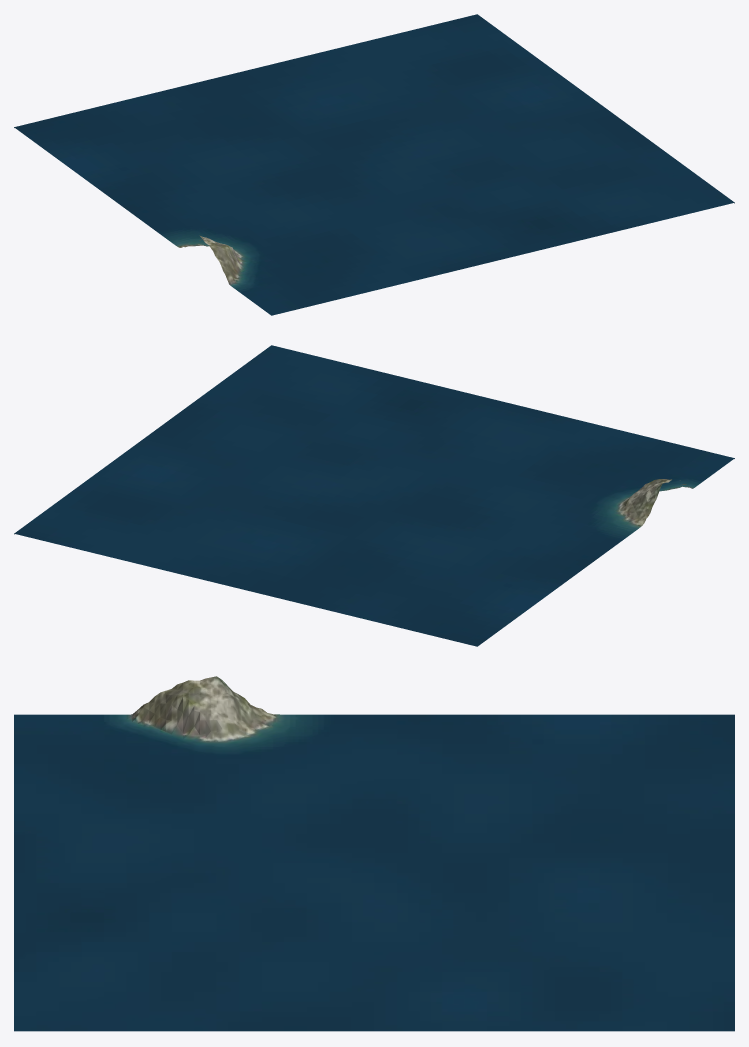
The picture shows the model from 3 angles, top to bottom: view 1: azimuth 30°, elevation 25°; view 2: azimuth 150°, elevation 25°; view 3: azimuth 270°, elevation 25°; orthographic projection. The views are drawn at different scales.
Bounding box in the file's own units: 500 × 29.37 × 481.
Materials: 1 (1 with a texture image).
